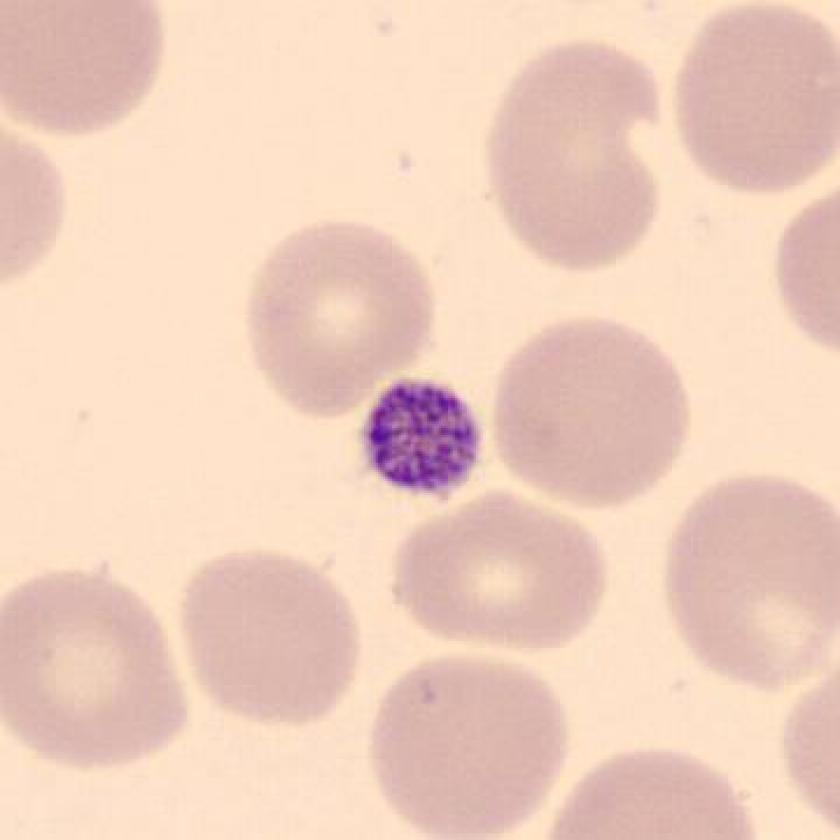platelets: (349, 364, 489, 510)
